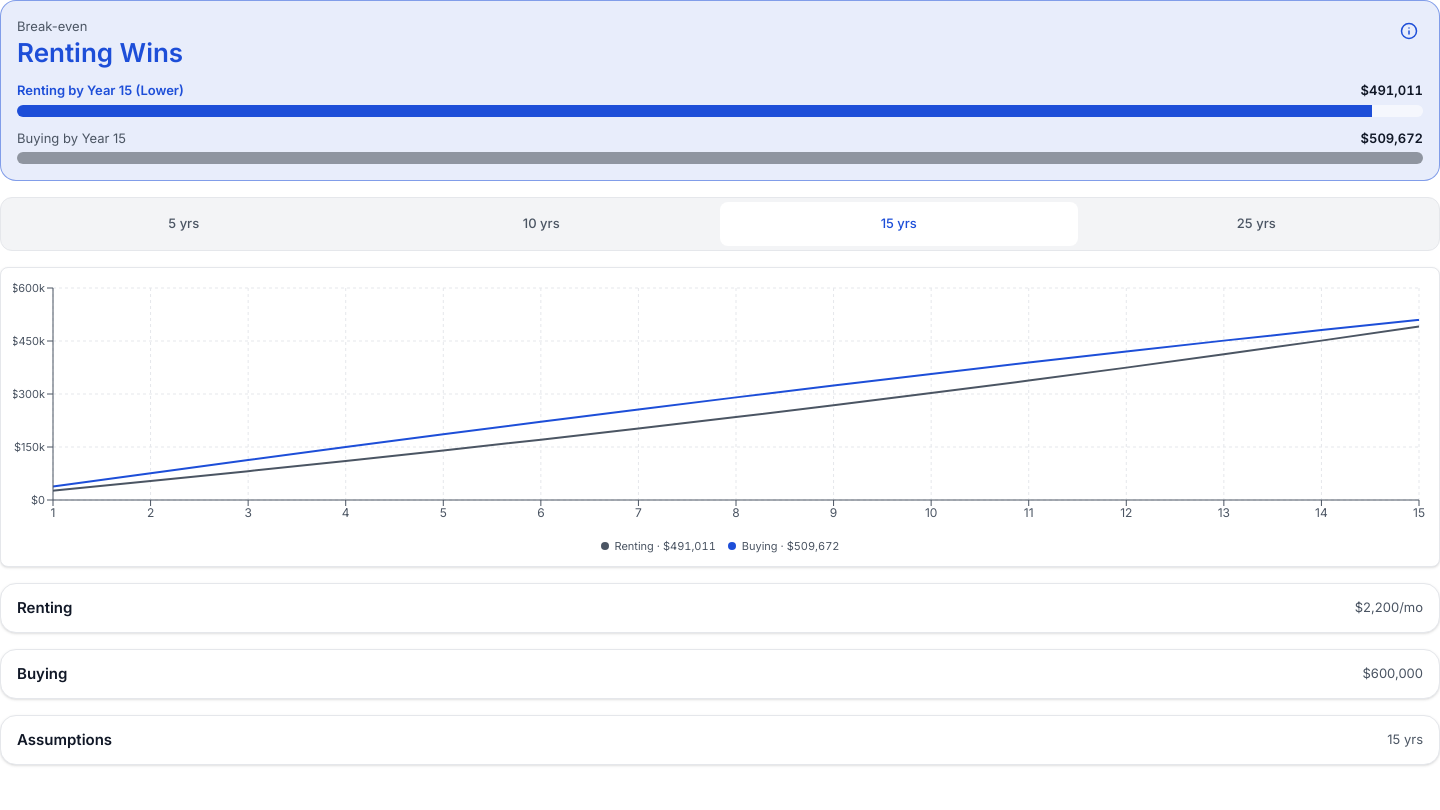
keeps the calculation note behind an info button
expect the text "money you never get back" is not shown: met
Click the button named "How This Is Calculated" at (1409, 31), box [1387,9,1431,53]
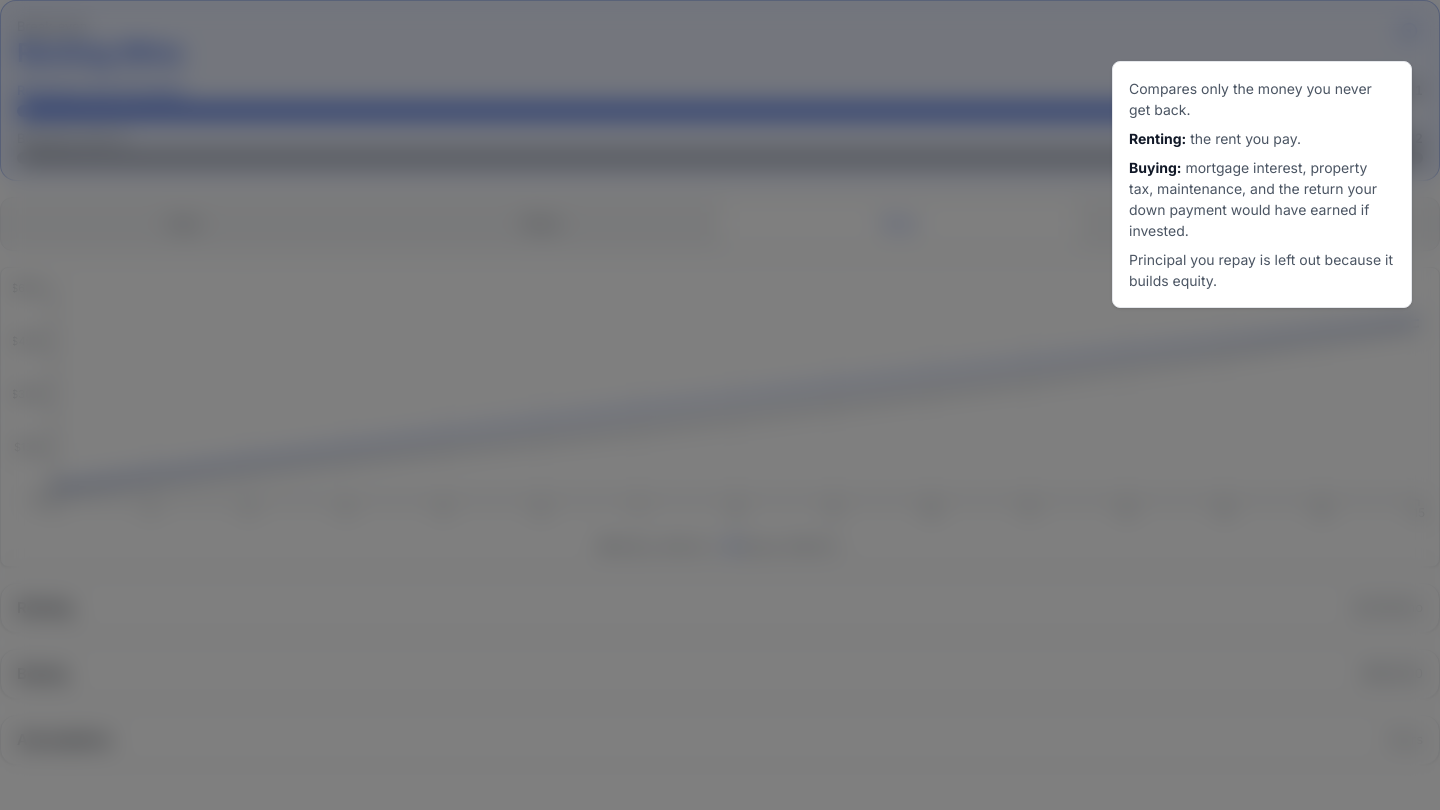
expect the text "Compares only the money you never get back." is shown: met, box [1129,78,1395,120]
